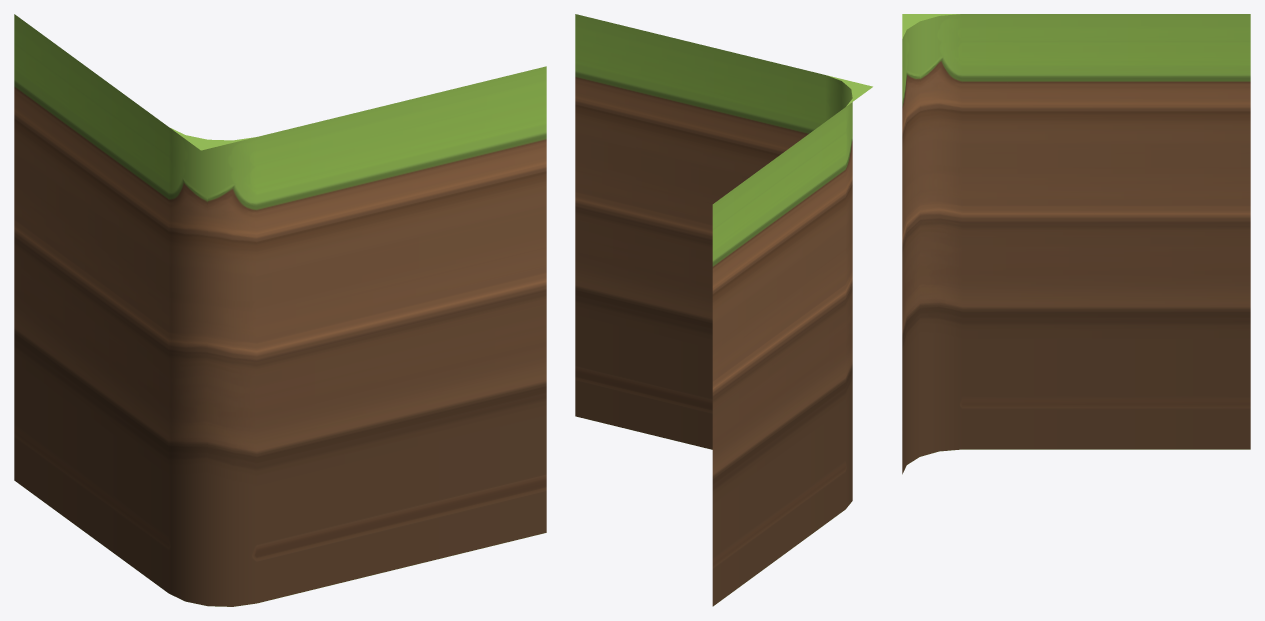
Rendered from GrassTiles_Konkav_test.fbx.
3 views of the same model, side by side, from view 1: azimuth 30°, elevation 25°; view 2: azimuth 150°, elevation 25°; view 3: azimuth 270°, elevation 25° (orthographic). The views are drawn at different scales.
Parts seen in each view (by area): view 1: GrassTile_Konkav.001; view 2: GrassTile_Konkav.001; view 3: GrassTile_Konkav.001.
Part boxes in pixels (left/top/right/bottom): GrassTile_Konkav.001: left=14, top=14, right=546, bottom=606; GrassTile_Konkav.001: left=575, top=14, right=872, bottom=606; GrassTile_Konkav.001: left=902, top=14, right=1250, bottom=474.
Size of the model in its own units: 155 by 200 by 145.
